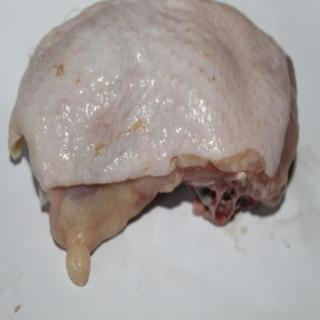Ayam: (10, 8, 300, 281)
